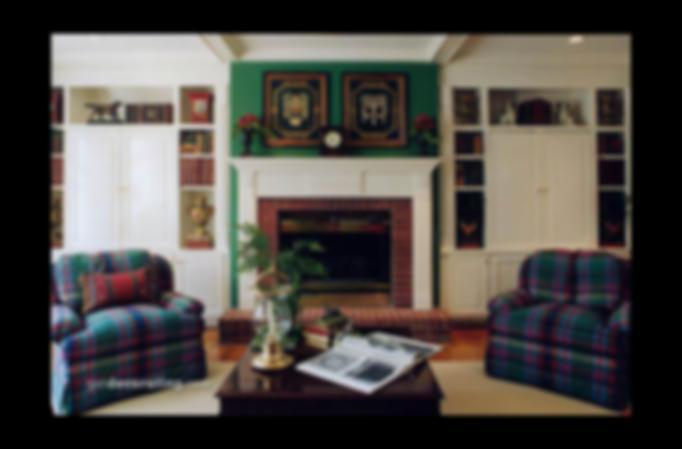Matera: (247, 230, 304, 338)
